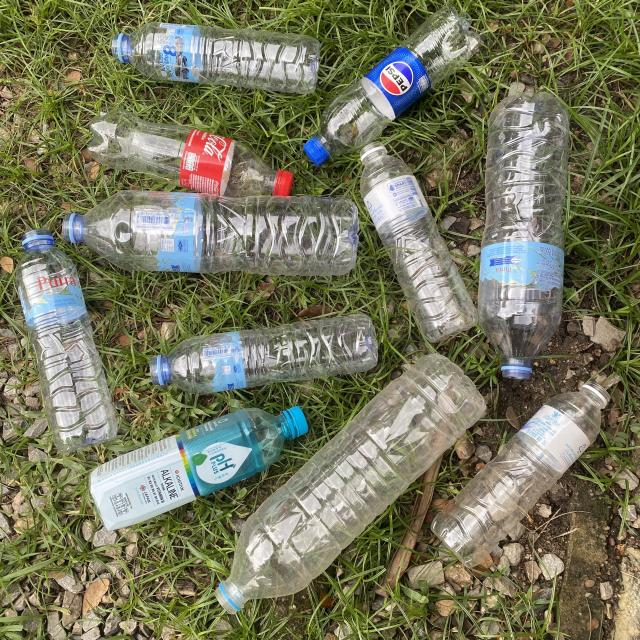plastik: (215, 354, 485, 614), (431, 381, 609, 568), (304, 6, 481, 165), (90, 408, 308, 530), (479, 92, 569, 379), (62, 190, 359, 275), (360, 142, 478, 342), (15, 230, 118, 452), (150, 314, 378, 394), (88, 109, 292, 198), (111, 22, 320, 94)
